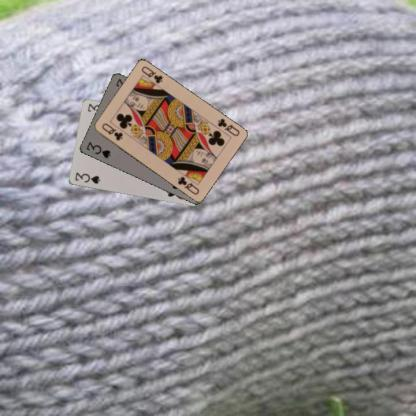3s: (84, 140, 112, 160), (72, 170, 101, 185)
Qc: (214, 115, 240, 138), (98, 121, 124, 142)
